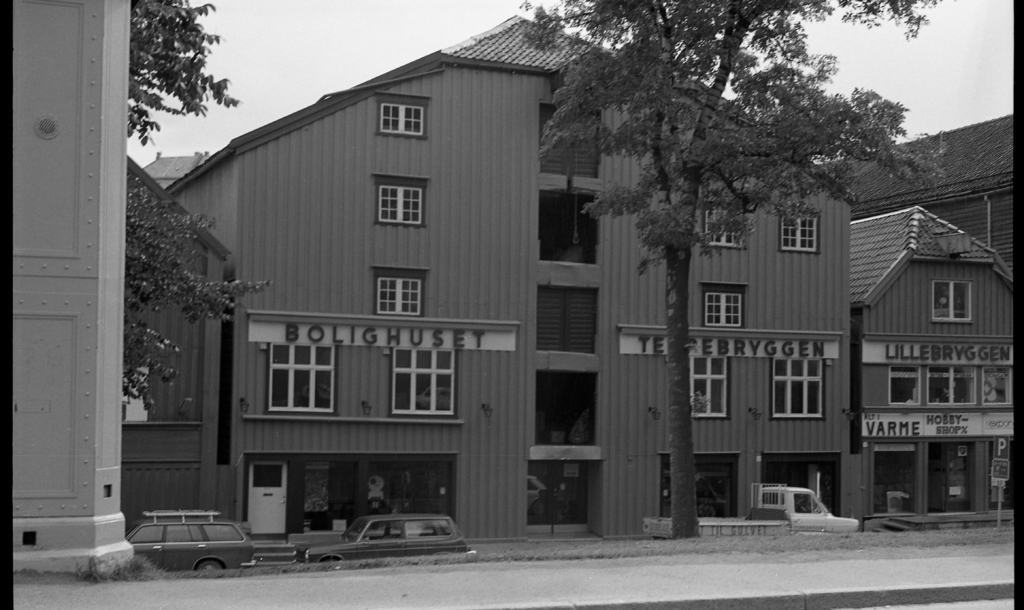Car: (122, 516, 258, 583), (297, 511, 471, 562)
